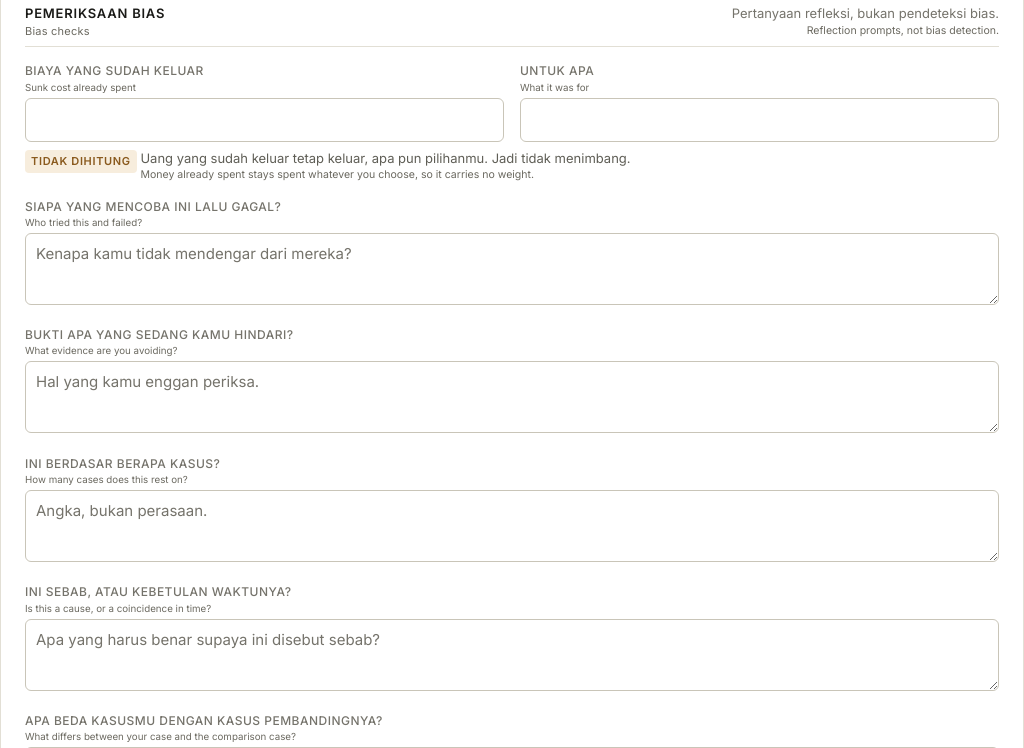
GatePanel › accepts a zero sunk cost, because zero is an answer
The image size is (1024, 748).
Type "0" into the number field labelled "Biaya yang sudah keluar Sunk cost already spent" at (264, 120), box [25,98,504,142]
(page scrolled)
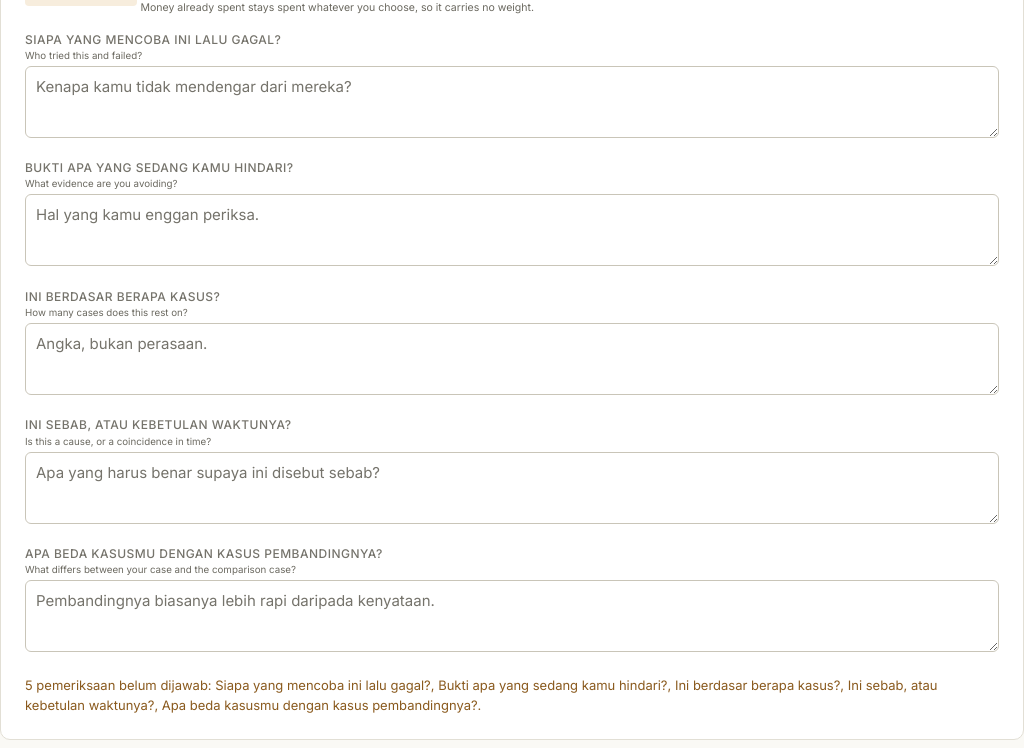
Check: the message shows "Siapa yang mencoba ini lalu gagal", box [25,676,938,713]
Check: the message no longer shows "biaya yang sudah keluar"
